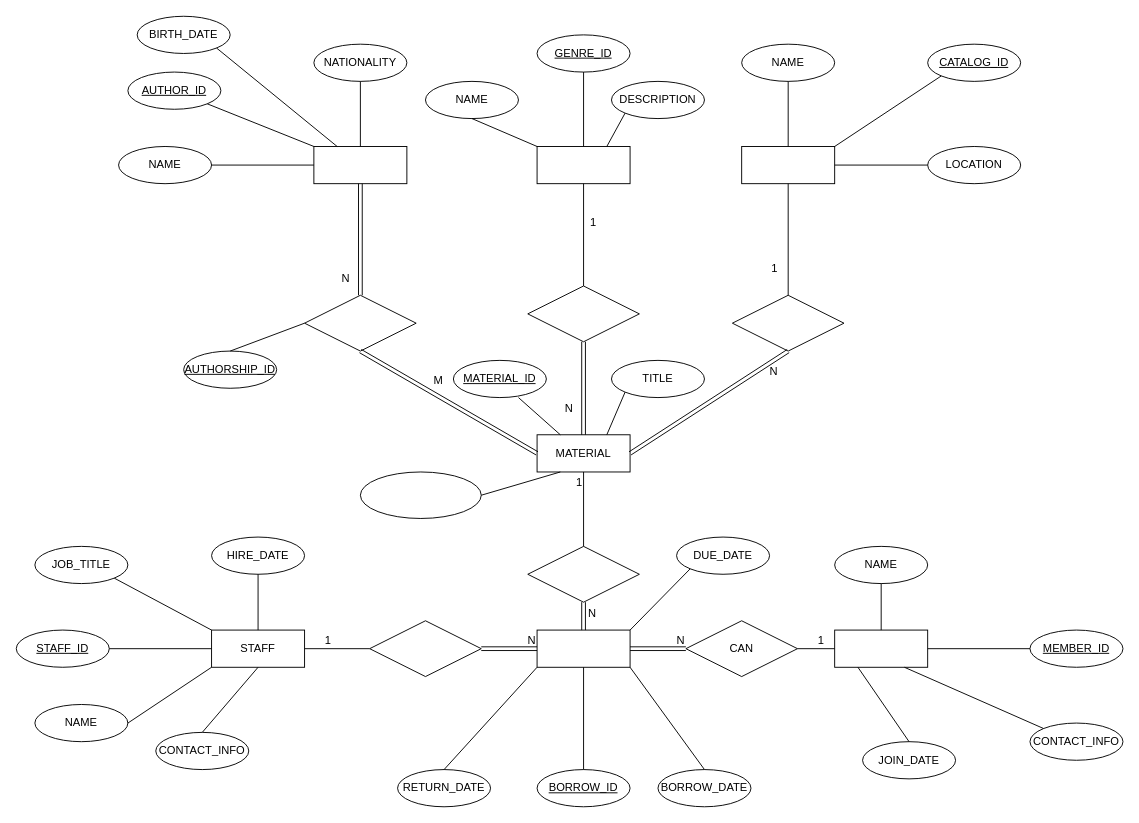
This 1139x823 diagram has some shape labels left out. The shapes that lost their labels are listed below. From the top down, each one's centre as x and y in pixels, then its label:
[360,165]: AUTHOR
[583,165]: GENRE
[788,165]: CATALOG
[360,322]: AUTHORSHIP
[583,313]: BELONG_TO
[787,322]: BASED
[420,494]: PUBLICATION_DATE
[583,573]: NEEDS_TO
[425,648]: PROCESS
[583,648]: BORROW
[881,648]: MEMBER
